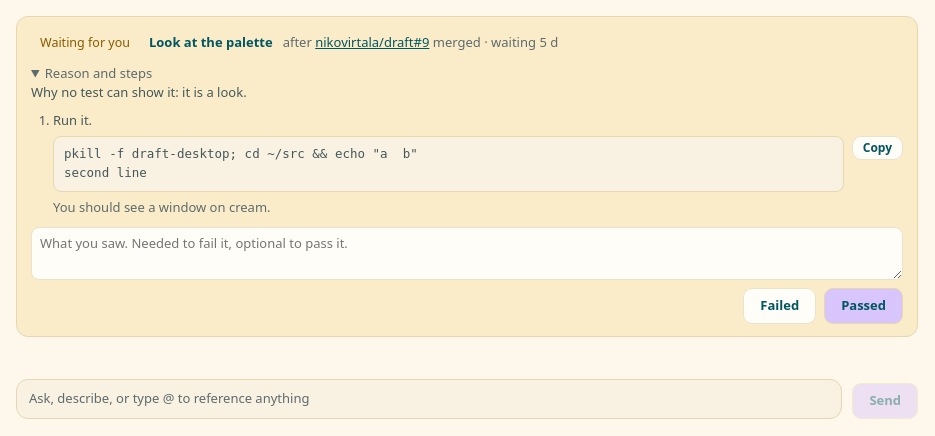
Test case: a check that waits on the person › copies a command exactly as written, with one action
This screenshot has width=935, height=436.
Click the button "Copy". click: [877, 148]
box: [852, 136, 903, 160]
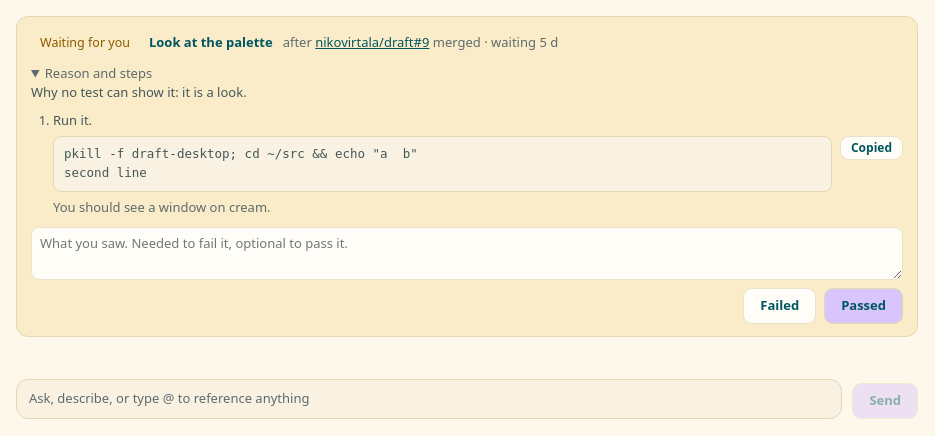
Now the button "Copied" is shown, box [840, 136, 903, 160]
